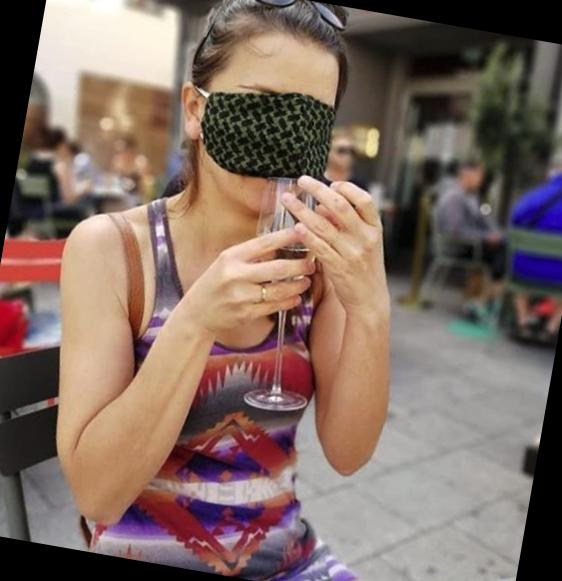mask_weared_incorrect: (186, 63, 353, 233)
without_mask: (331, 139, 357, 171), (464, 166, 489, 190)
